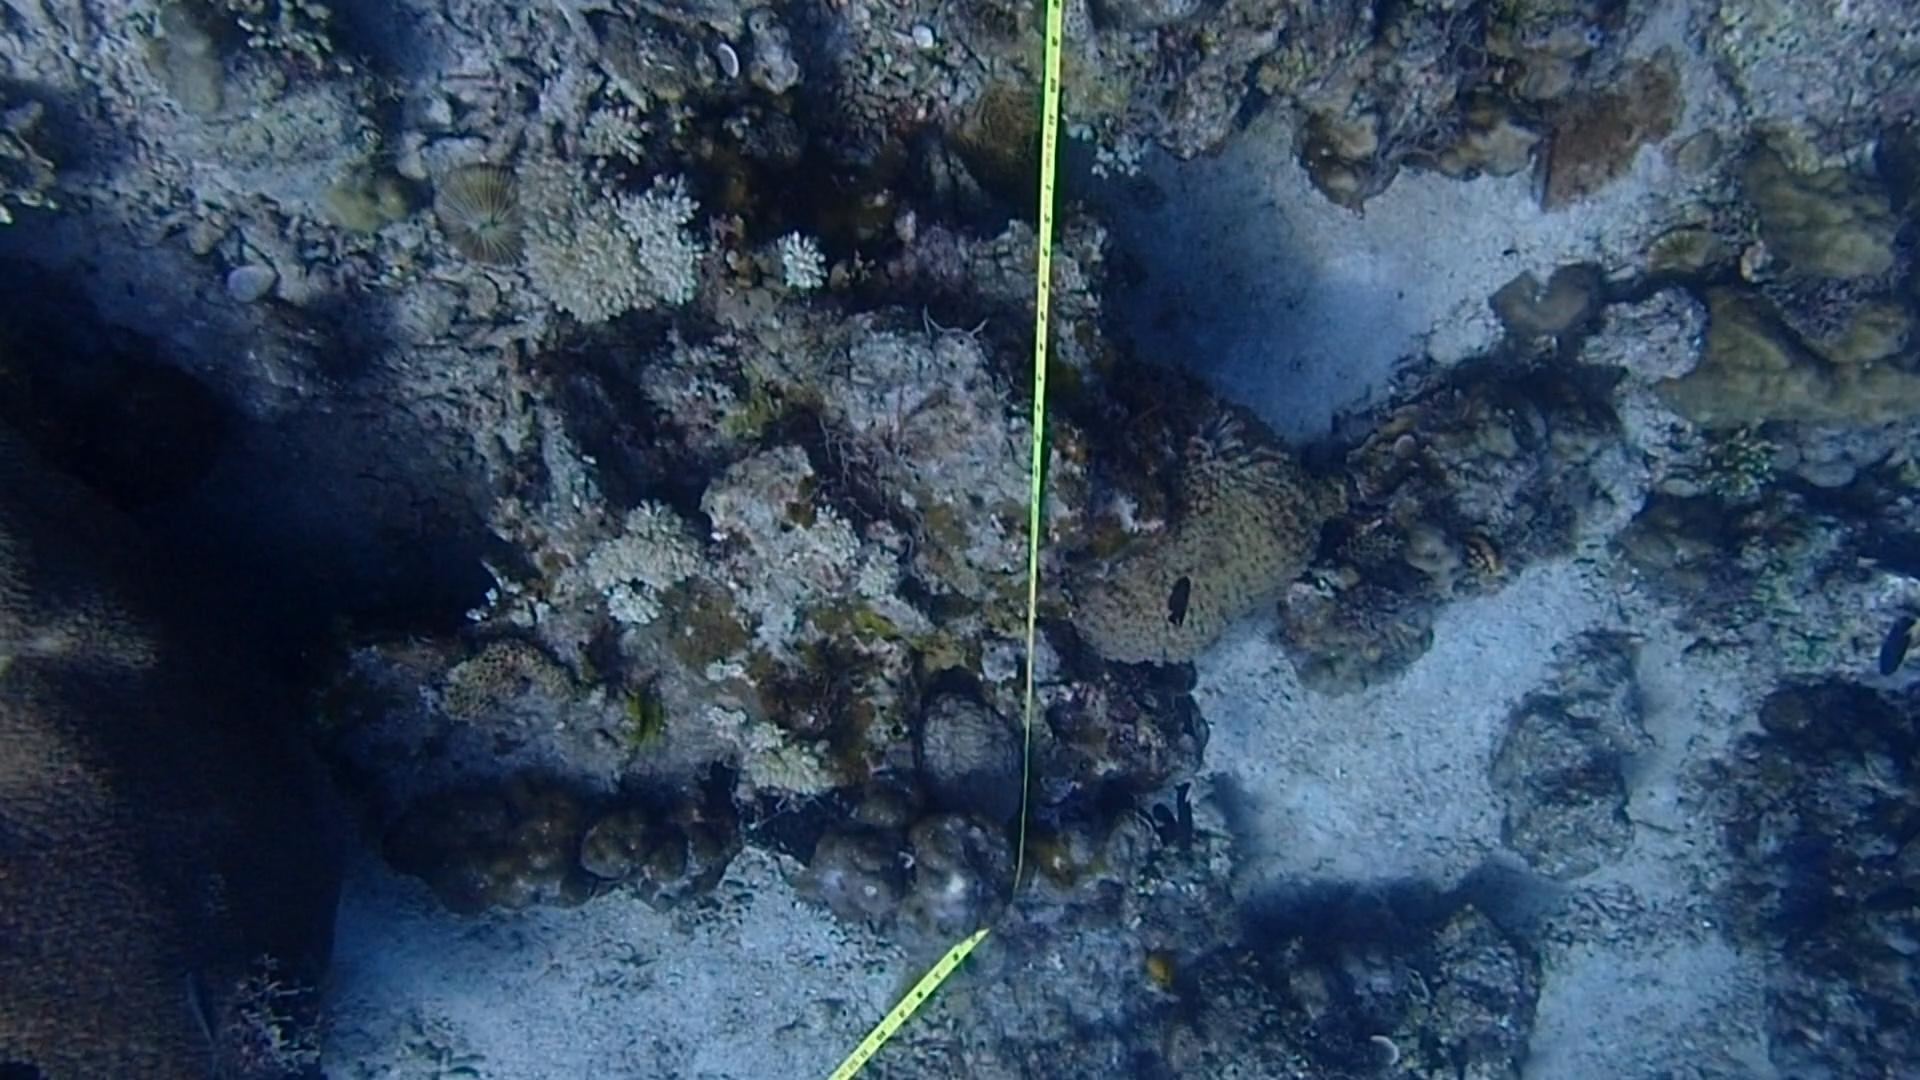Dark Fish: (1295, 510, 1366, 575), (1870, 604, 1920, 687), (1158, 564, 1215, 637), (1164, 790, 1201, 866), (1166, 687, 1208, 752), (1149, 789, 1180, 860)
